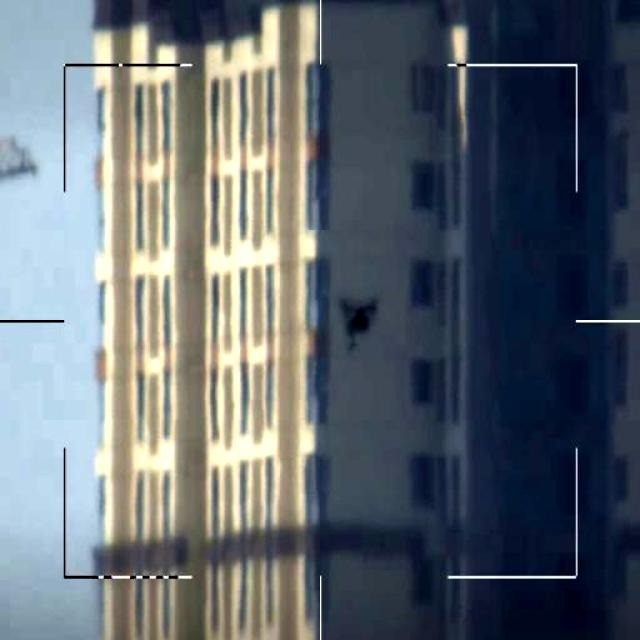bird: (340, 284, 388, 354)
